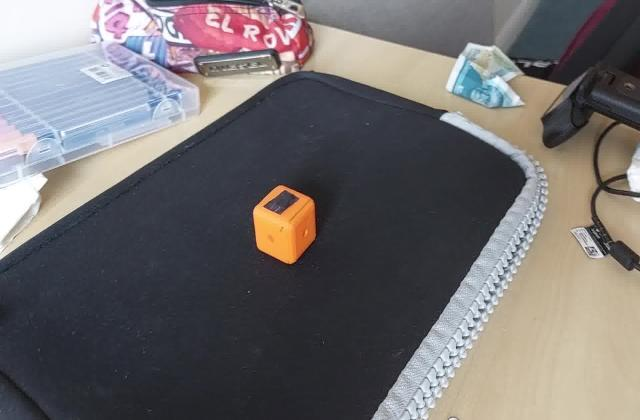black: (266, 190, 301, 214)
cube: (252, 183, 320, 266)
